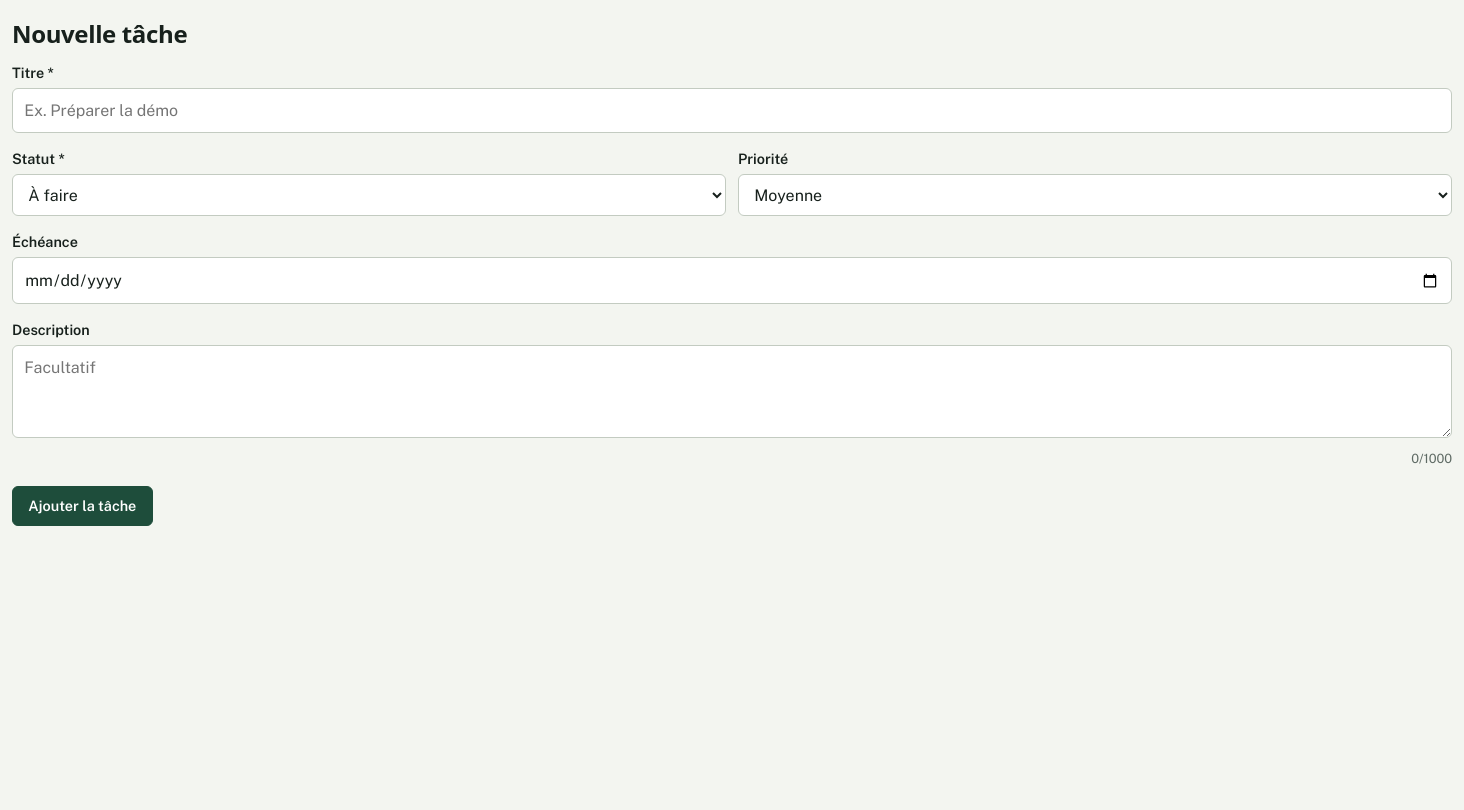
<TaskForm /> › titre vide : message d'erreur et aucun envoi
The width and height of the screenshot is (1464, 810).
Click the button "Ajouter la tâche" at (82, 506), box [12,486,152,526]
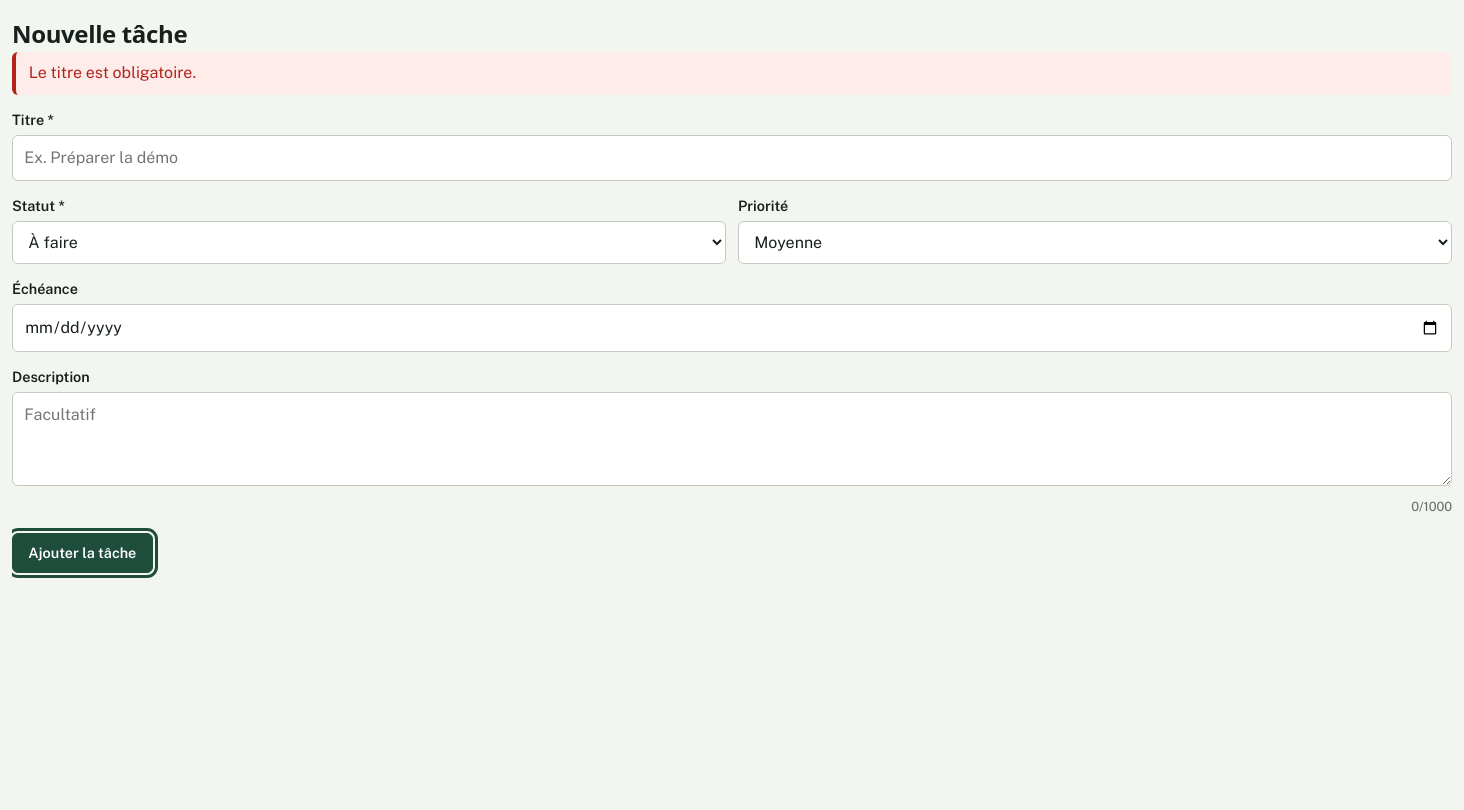
Expected: the message reads "Le titre est obligatoire.", [29,63,196,82]
